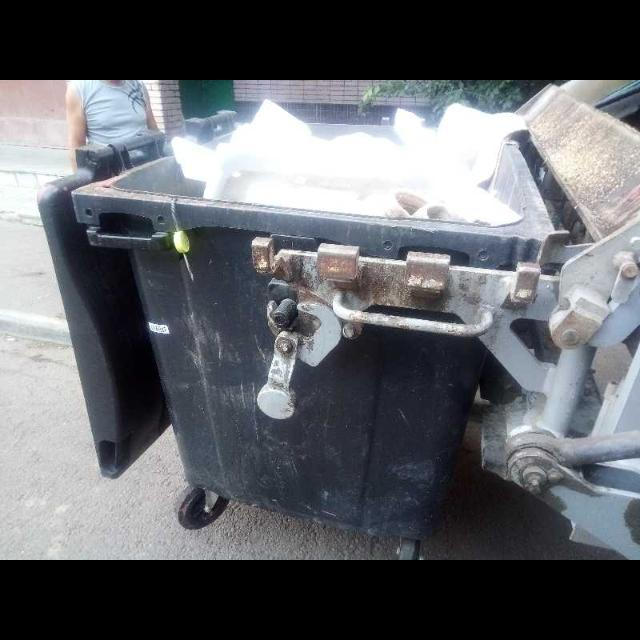Trash_Can_Full: (75, 119, 555, 536)
